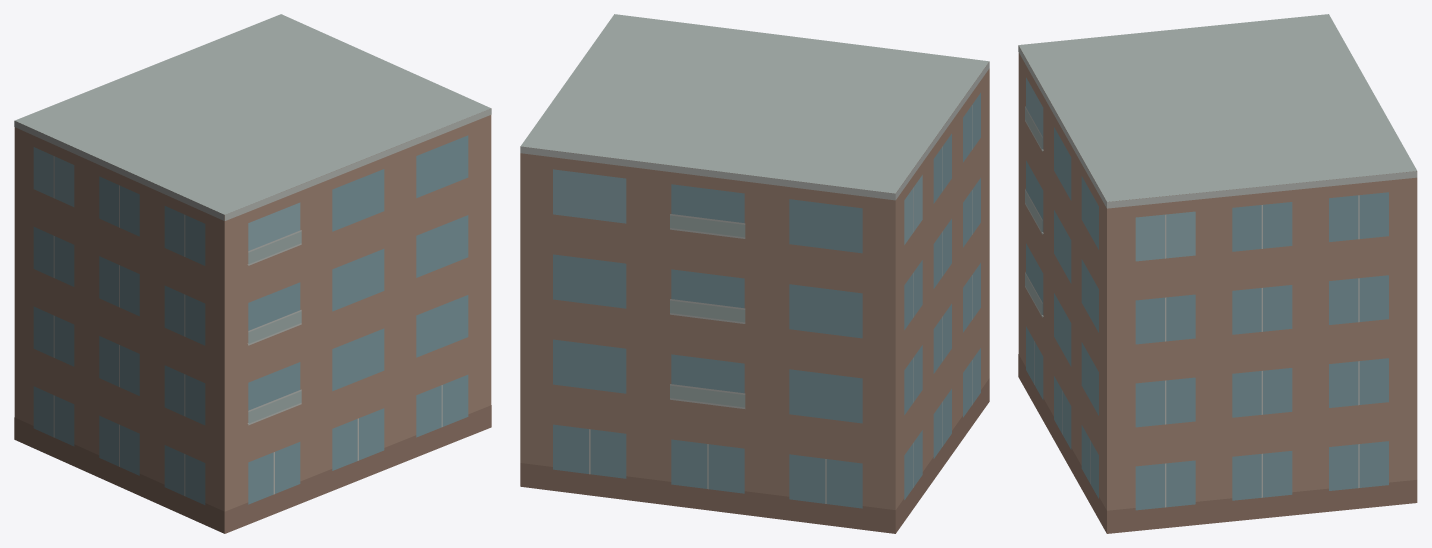
Rendered from survey-upis-32721488.glb.
3 renders of one model, left to right at view 1: azimuth 30°, elevation 25°; view 2: azimuth 150°, elevation 25°; view 3: azimuth 270°, elevation 25°, orthographic. The views are drawn at different scales.
Parts seen in each view (by area): view 1: survey-upis-32721488.tmp; view 2: survey-upis-32721488.tmp; view 3: survey-upis-32721488.tmp.
Boxes of the visible parts, x1,y1,x2,y2 form: survey-upis-32721488.tmp: [14, 14, 491, 533]; survey-upis-32721488.tmp: [520, 14, 989, 533]; survey-upis-32721488.tmp: [1018, 14, 1417, 533].
Size of the model in its own units: 14.83 by 12.2 by 13.3.
